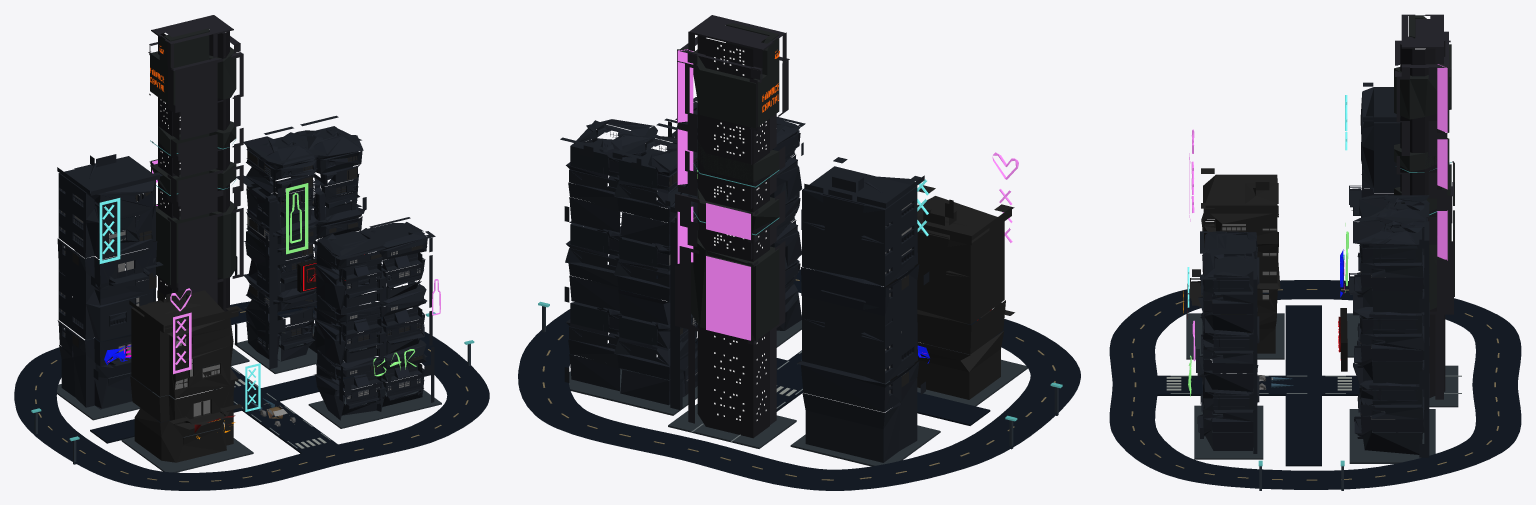
File: overview.glb
3 renders of one model, left to right at view 1: azimuth 30°, elevation 25°; view 2: azimuth 150°, elevation 25°; view 3: azimuth 270°, elevation 25°, orthographic. The views are drawn at different scales.
Visible parts, largest first — view 1: Native Punk Drive / structure, Native Punk Drive / lights; view 2: Native Punk Drive / structure, Native Punk Drive / lights; view 3: Native Punk Drive / structure, Native Punk Drive / lights.
Boxes of the visible parts, x1,y1,x2,y2 form: Native Punk Drive / structure: (14,15,489,490); Native Punk Drive / lights: (31,45,474,441); Native Punk Drive / structure: (518,15,1080,490); Native Punk Drive / lights: (538,45,1062,421); Native Punk Drive / structure: (1109,14,1521,490); Native Punk Drive / lights: (1183,64,1451,466).
Size of the model in its own units: 10.92 by 8.62 by 9.05.
